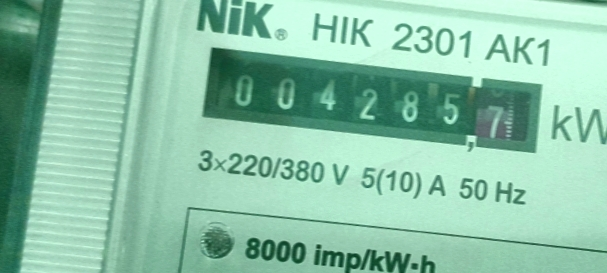0: (273, 74, 299, 114), (231, 72, 256, 109)
2: (356, 86, 380, 124)
4: (318, 77, 339, 114)
5: (438, 90, 463, 128)
7: (481, 103, 505, 142)
8: (397, 88, 422, 127)
screen: (185, 30, 560, 176)
